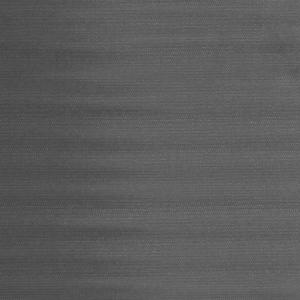Wrinkle: (1, 26, 181, 300), (215, 1, 300, 300)
